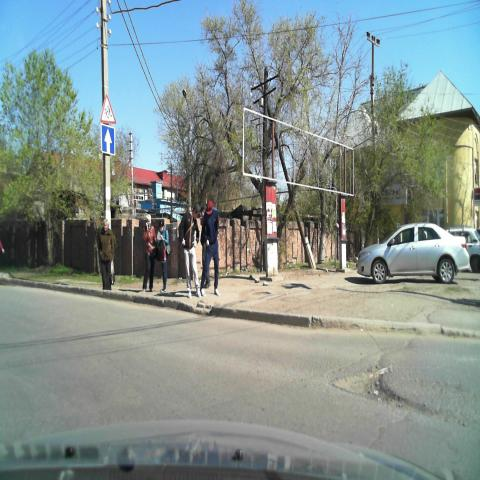1_23: (98, 96, 117, 123)
5_5: (100, 126, 117, 156)
